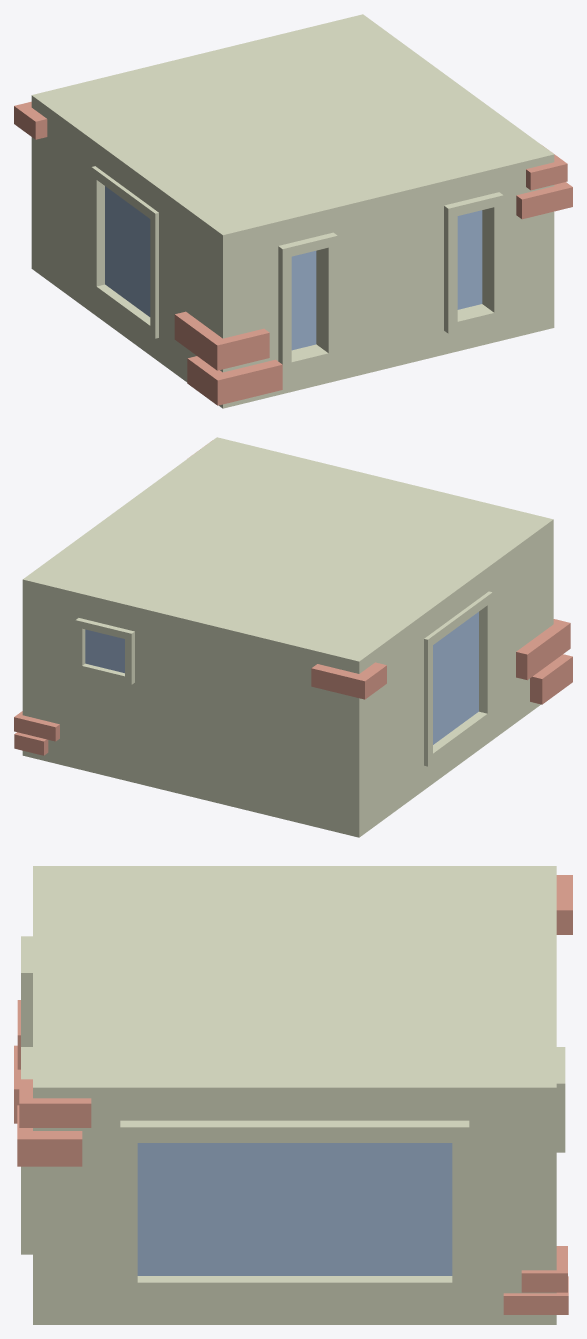
The model's file is SamoSprat.fbx.
3 views of the same model, one above another, from view 1: azimuth 30°, elevation 25°; view 2: azimuth 150°, elevation 25°; view 3: azimuth 270°, elevation 25° (orthographic). The views are drawn at different scales.
Parts seen in each view (by area): view 1: Cube.009; view 2: Cube.009; view 3: Cube.009.
Boxes of the visible parts, <box> form: Cube.009: <box>14,14,572,408</box>; Cube.009: <box>14,437,572,837</box>; Cube.009: <box>14,866,572,1324</box>.
Size of the model in its own units: 215 by 100 by 213.
